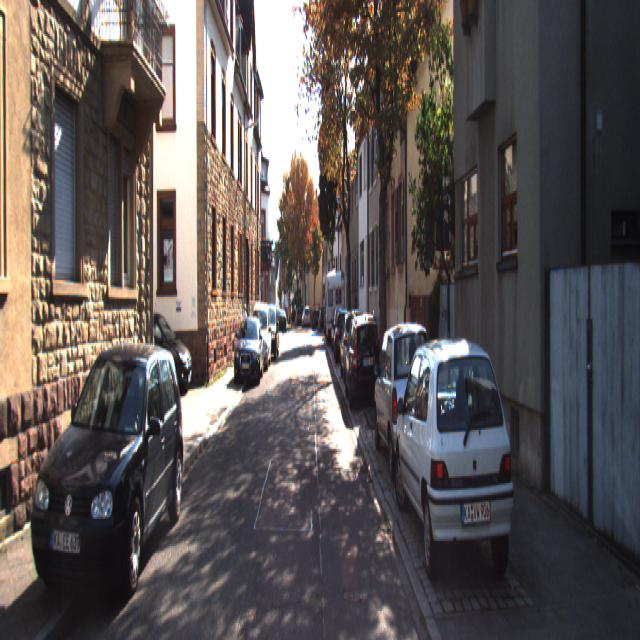Car: (28, 333, 189, 621), (392, 322, 524, 602), (375, 315, 445, 479), (124, 310, 195, 398), (344, 304, 384, 408), (233, 313, 265, 387), (340, 303, 368, 381), (248, 294, 273, 364), (325, 262, 346, 340), (262, 298, 281, 356), (276, 310, 288, 334)
